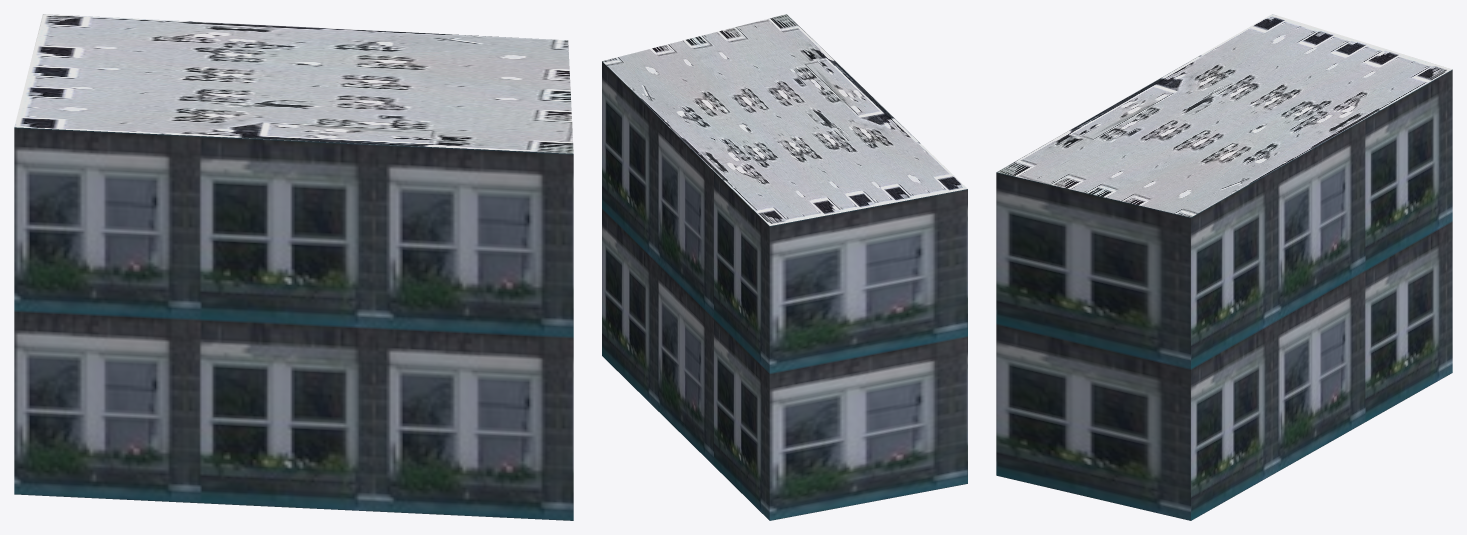
File: ResTex__2996.fbx
The picture shows the model from 3 angles, left to right: view 1: azimuth 30°, elevation 25°; view 2: azimuth 150°, elevation 25°; view 3: azimuth 270°, elevation 25°; orthographic projection. The views are drawn at different scales.
Parts seen in each view (by area): view 1: CityEngineMaterial_11_m, CityEngineMaterial_m; view 2: CityEngineMaterial_11_m, CityEngineMaterial_m; view 3: CityEngineMaterial_11_m, CityEngineMaterial_m.
Boxes of the visible parts, x1,y1,x2,y2 form: CityEngineMaterial_11_m: (14,127,573,520); CityEngineMaterial_m: (14,14,573,153); CityEngineMaterial_11_m: (602,61,967,520); CityEngineMaterial_m: (602,14,967,225); CityEngineMaterial_11_m: (996,69,1452,520); CityEngineMaterial_m: (997,14,1452,217).
Bounding box in the file's own units: 8.63 × 6 × 8.18.
2 materials, 2 textured.
